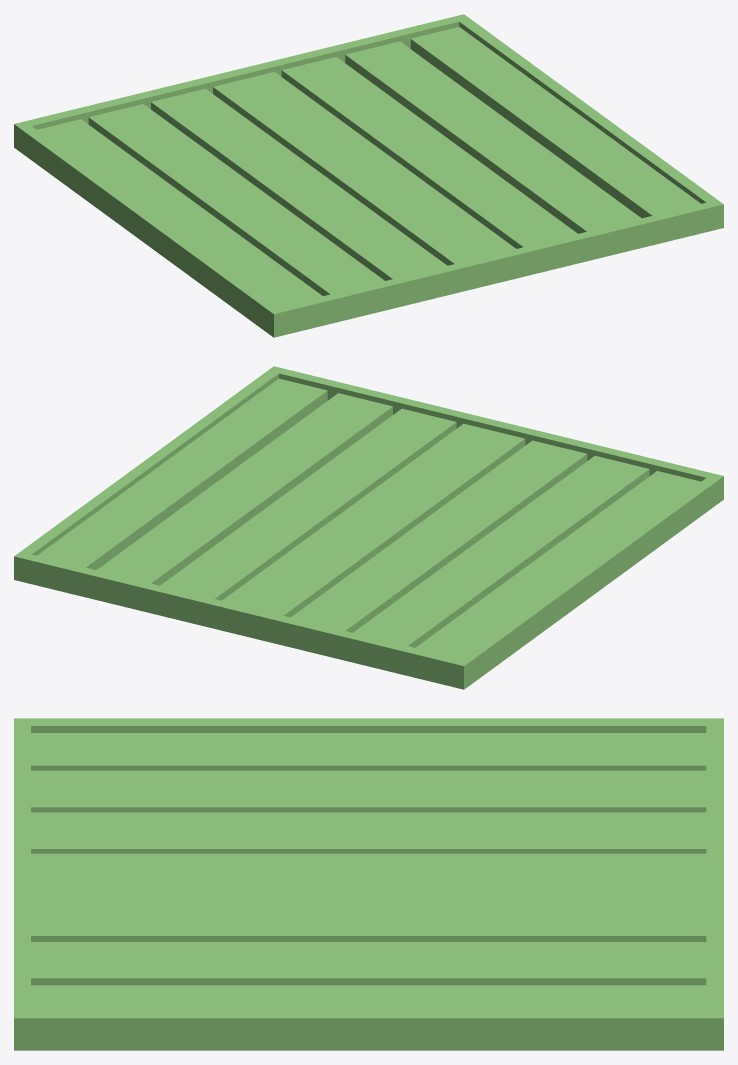
File: Platform_Mid.fbx
The picture shows the model from 3 angles, top to bottom: view 1: azimuth 30°, elevation 25°; view 2: azimuth 150°, elevation 25°; view 3: azimuth 270°, elevation 25°; orthographic projection. The views are drawn at different scales.
Parts seen in each view (by area): view 1: Platform_Mid; view 2: Platform_Mid; view 3: Platform_Mid.
Part boxes in pixels (bbox=[...]): Platform_Mid: bbox=[14, 14, 723, 337]; Platform_Mid: bbox=[14, 366, 723, 689]; Platform_Mid: bbox=[14, 718, 723, 1050].
Size of the model in its own units: 248 by 12.38 by 248.
